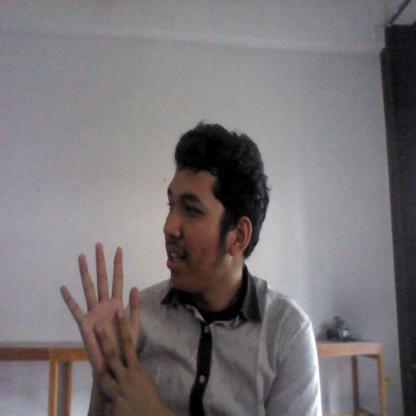N: (58, 241, 148, 405)
